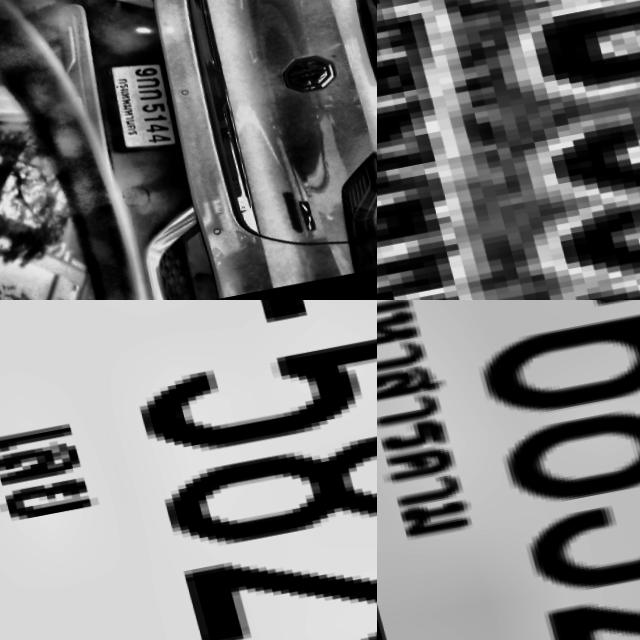license-plate: (0, 300, 377, 640), (377, 300, 640, 640), (377, 0, 640, 300), (95, 53, 181, 157)
